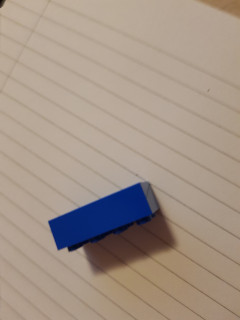2x4 blue: (47, 177, 160, 251)
